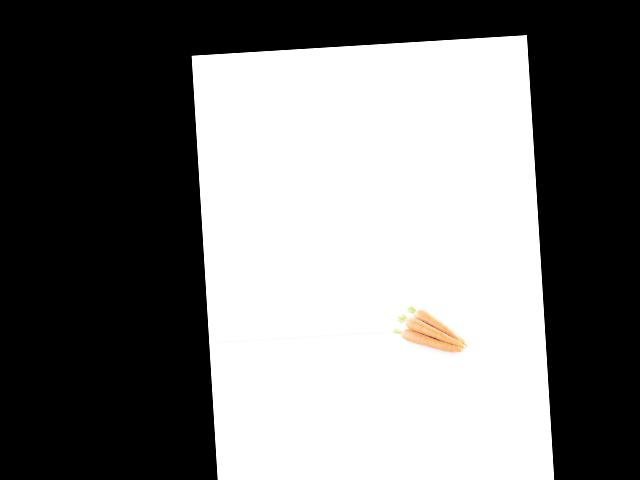carrot: (390, 325, 458, 367)
